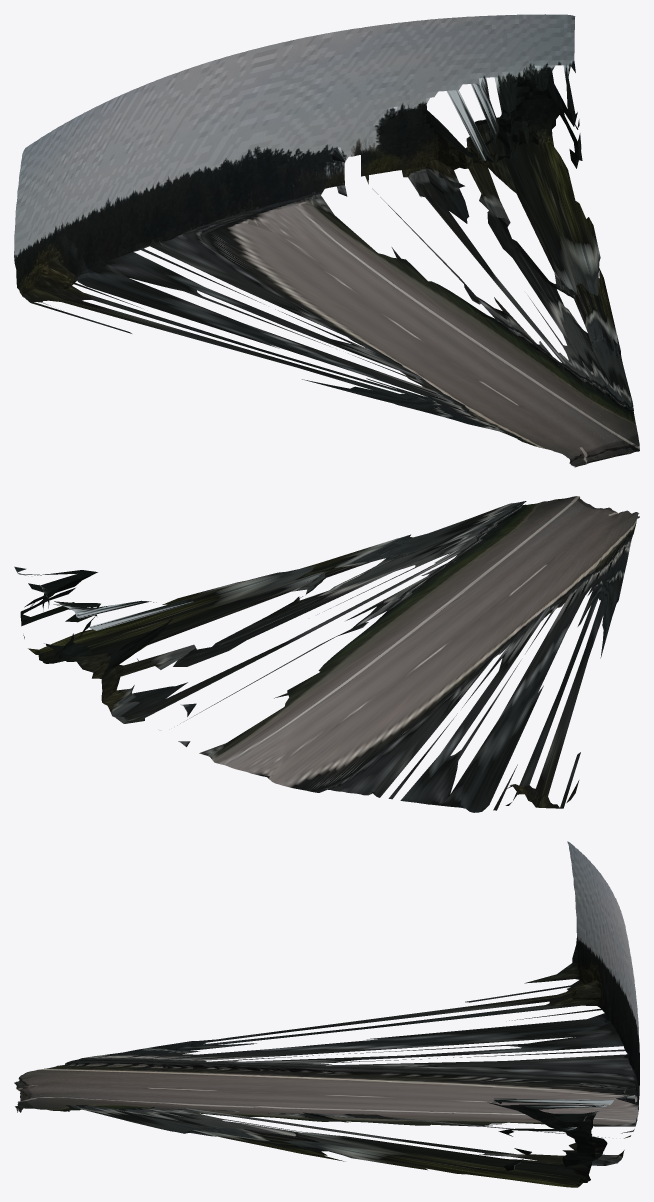
3 renders of one model, top to bottom at view 1: azimuth 30°, elevation 25°; view 2: azimuth 150°, elevation 25°; view 3: azimuth 270°, elevation 25°, orthographic. The views are drawn at different scales.
Parts seen in each view (by area): view 1: defaultobject; view 2: defaultobject; view 3: defaultobject.
Part boxes in pixels (left/top/right/bottom): defaultobject: left=14, top=14, right=639, bottom=467; defaultobject: left=14, top=496, right=639, bottom=812; defaultobject: left=14, top=841, right=639, bottom=1187.
Bounding box in the file's own units: 41.03 × 12.56 × 44.46.
Materials: 1 (1 with a texture image).
